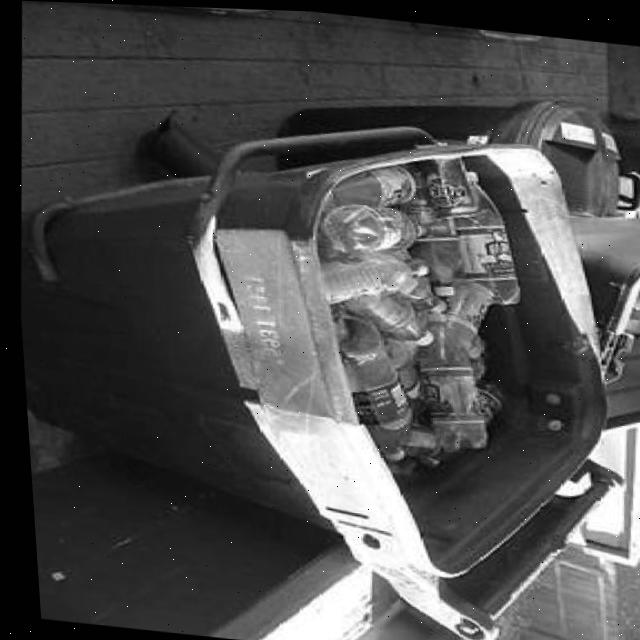Garbage: (316, 151, 516, 472), (601, 279, 640, 377)
Glass_bottle: (330, 162, 413, 203)
Plastic: (399, 420, 437, 453), (622, 301, 640, 328), (630, 279, 640, 305)
Plastic_bottle: (331, 310, 406, 457), (411, 315, 481, 447), (317, 199, 424, 252), (319, 251, 425, 300), (339, 291, 427, 341), (407, 220, 459, 292), (395, 272, 442, 309)
can: (424, 276, 485, 354), (394, 157, 453, 233), (417, 154, 477, 212), (379, 334, 416, 403), (472, 376, 497, 416)
